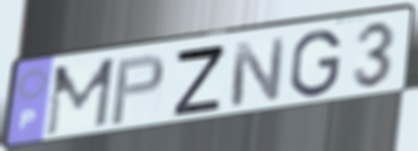3: (350, 19, 399, 93)
G: (287, 27, 344, 101)
M: (42, 55, 118, 139)
N: (227, 35, 288, 110)
P: (107, 52, 167, 129)
Z: (171, 43, 227, 119)
